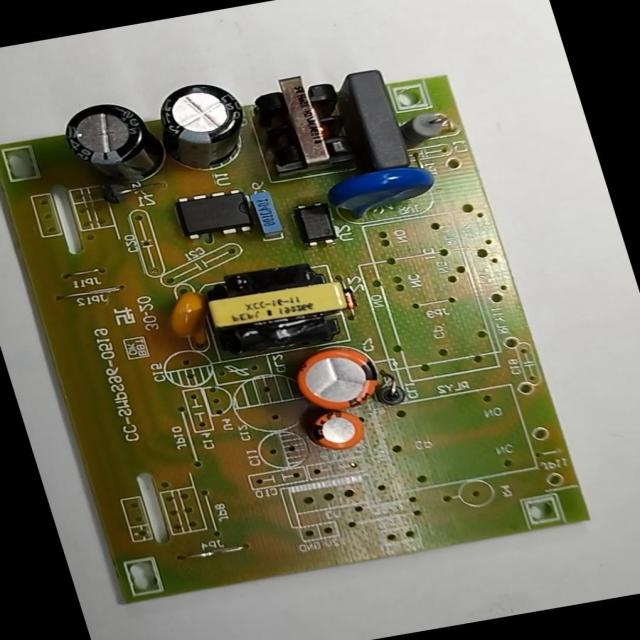Cap1: (280, 337, 392, 421)
Cap2: (300, 403, 374, 457)
Cap3: (139, 73, 262, 177)
Cap4: (50, 87, 177, 196)
MOSFET: (166, 182, 264, 246)
Mov: (318, 156, 448, 226)
Resistor: (393, 105, 453, 150)
Transformer: (190, 249, 363, 367), (240, 65, 363, 184)
